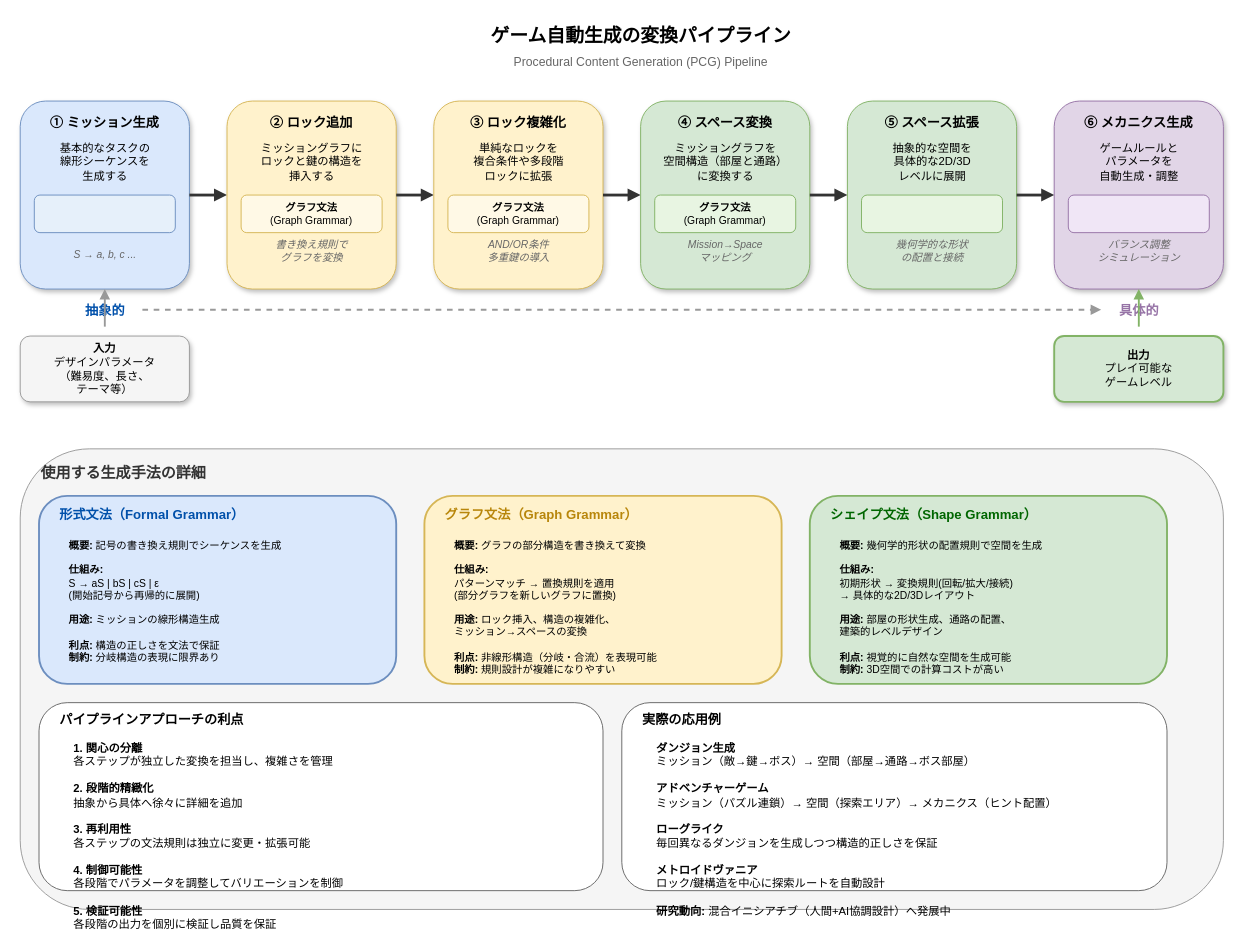
Image size: 1246x947. Some labels were removed from this diagram. Each missing label, with the centre of its shape:
Machinations (内部経済設計): [1138,213]
シェイプ文法 (Shape Grammar): [932,213]
形式文法 (Formal Grammar): [104,213]
